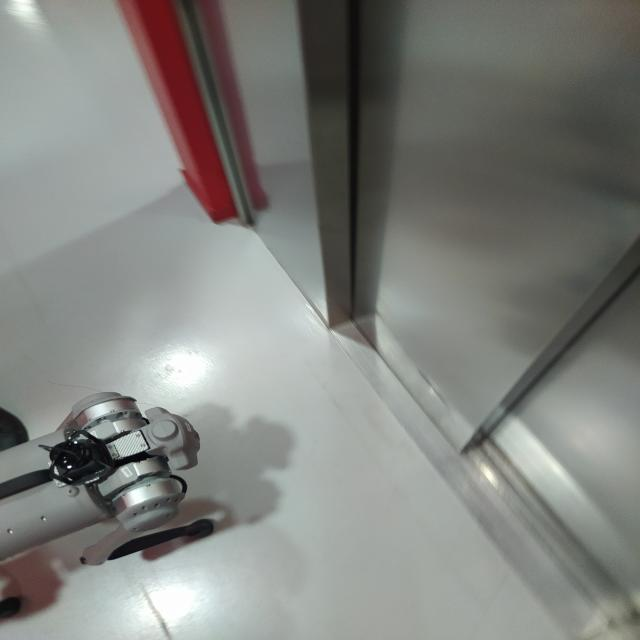unitree-go1-robot: (0, 378, 236, 640)
